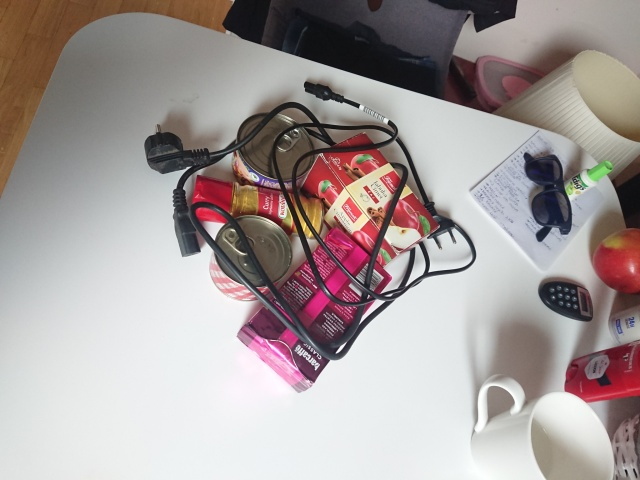Barcaffe Classic Original 225g: (234, 224, 395, 396)
Franck Apple Cinnamon Tea 60g: (296, 130, 444, 273)
Giana Tuna Salad Mexico 185g: (228, 109, 317, 200)
Kotanyi Curry Spices Mix 70g: (189, 172, 328, 242)
Podravka Luncheon Meat 150g: (207, 213, 295, 303)
